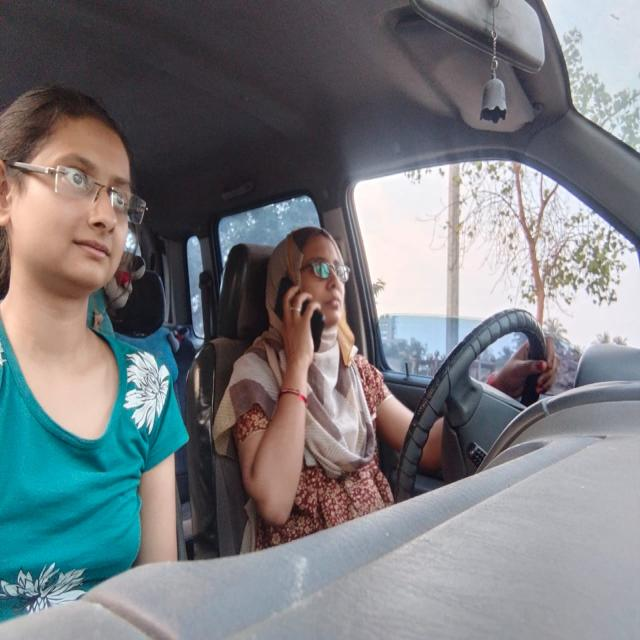mobile: (275, 268, 333, 346)
person: (0, 84, 144, 295), (264, 225, 357, 347)
